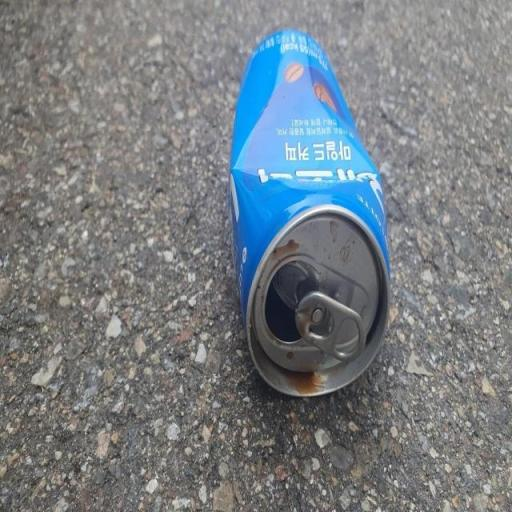metal: (218, 27, 410, 421)
